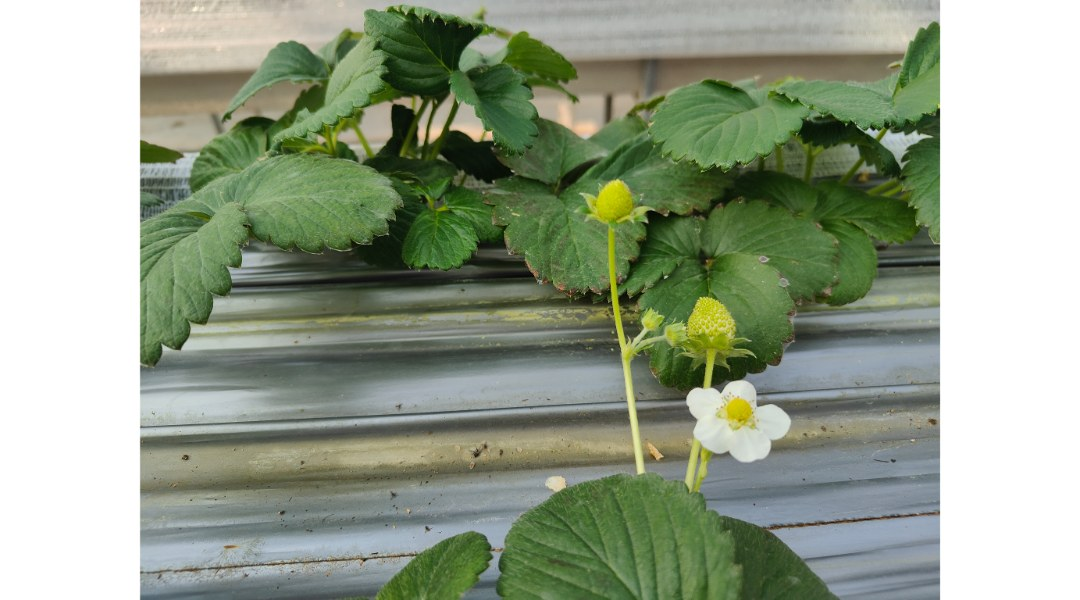berry: (678, 288, 753, 358), (580, 160, 646, 234)
flower: (678, 381, 800, 460)
strain: (599, 237, 647, 480)
